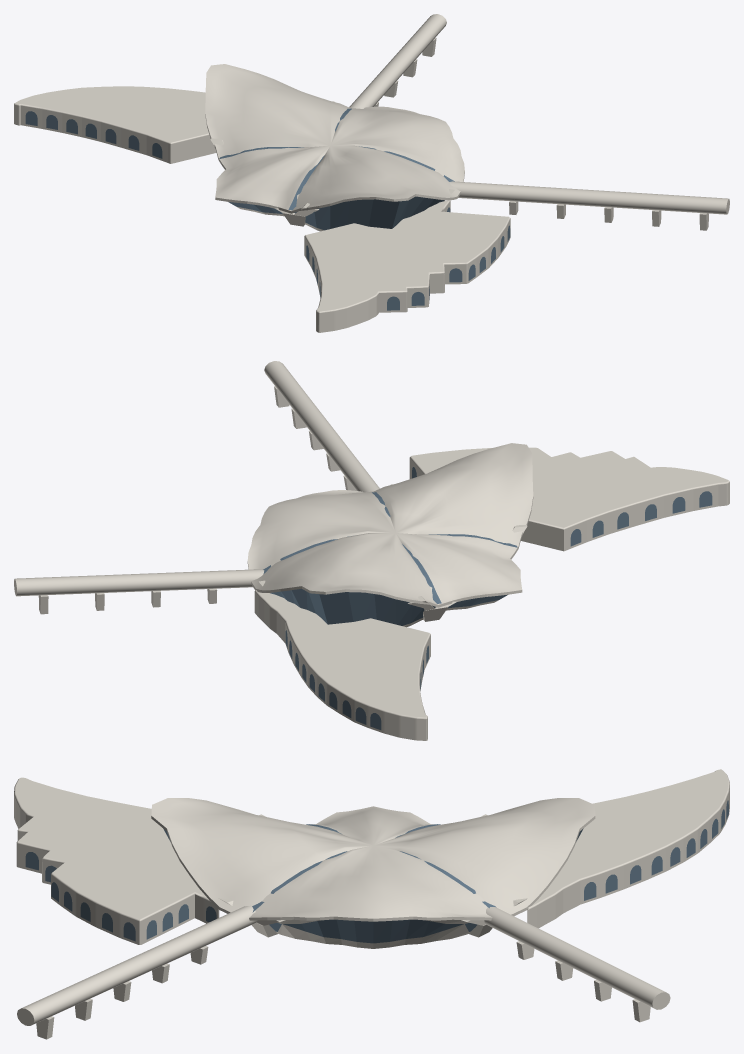
Rendered from nyc-twa-flight-center.glb.
The picture shows the model from 3 angles, top to bottom: view 1: azimuth 30°, elevation 25°; view 2: azimuth 150°, elevation 25°; view 3: azimuth 270°, elevation 25°; orthographic projection. The views are drawn at different scales.
Visible parts, largest first — view 1: TWA Flight Center; view 2: TWA Flight Center; view 3: TWA Flight Center.
Boxes of the visible parts, x1=… form: TWA Flight Center: x1=14, y1=14, x2=729, y2=332; TWA Flight Center: x1=14, y1=361, x2=729, y2=740; TWA Flight Center: x1=14, y1=769, x2=729, y2=1039.
Size of the model in its own units: 129 by 17.7 by 153.
